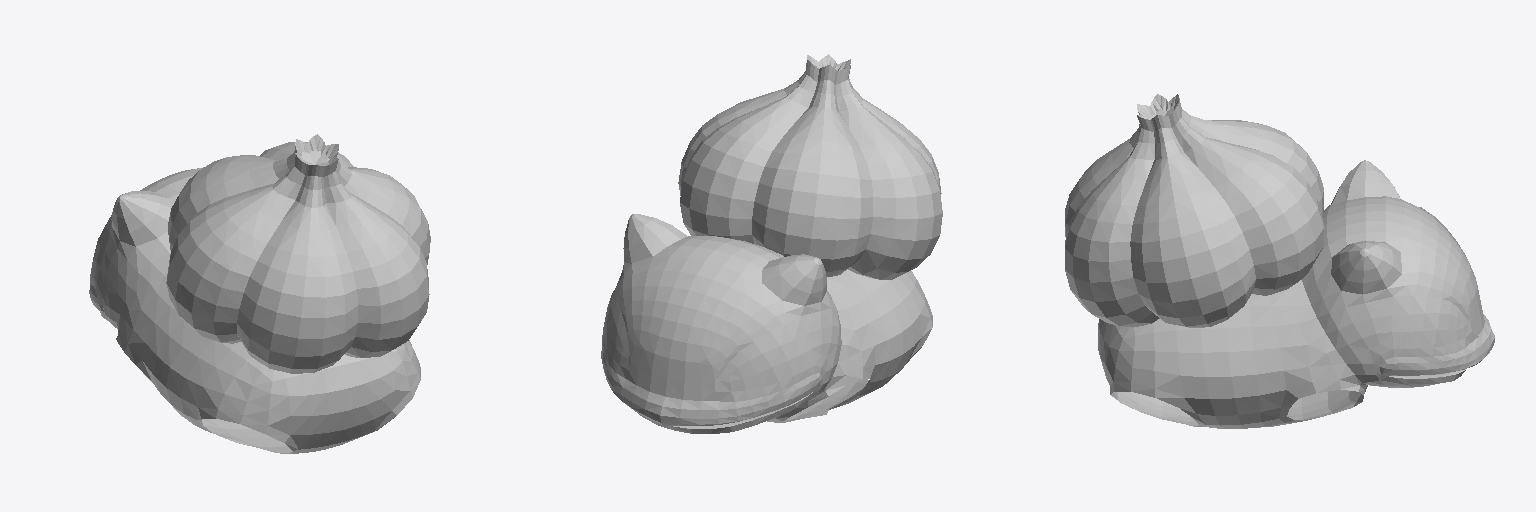
The model's file is Bulbasaur.obj.
3 views of the same model, side by side, from view 1: azimuth 30°, elevation 25°; view 2: azimuth 150°, elevation 25°; view 3: azimuth 270°, elevation 25° (orthographic).
Visible parts, largest first — view 1: bulCuerpo_Material__12, Hips, Head, bulCuerpo_Material__10, LEar, LShoulder, Spine2, Spine1; view 2: bulCuerpo_Material__12, Head, bulCuerpo_Material__13, Hips, LShoulder, bulCuerpo_Material__10, LEar, Spine2, Jaw, Spine1, REar; view 3: bulCuerpo_Material__12, Head, Hips, Spine2, bulCuerpo_Material__13, RShoulder, REar, Spine1, Jaw, LEar.
Boxes of the visible parts, box(x1,y1,x2,y2) form: bulCuerpo_Material__12: box(166, 134, 430, 373); Hips: box(157, 321, 420, 453); Head: box(89, 167, 203, 328); bulCuerpo_Material__10: box(120, 272, 172, 342); LEar: box(112, 191, 159, 232); LShoulder: box(116, 315, 159, 391); Spine2: box(117, 254, 181, 354); Spine1: box(154, 319, 238, 428); bulCuerpo_Material__12: box(678, 54, 942, 279); Head: box(601, 225, 841, 425); bulCuerpo_Material__13: box(602, 271, 805, 401); Hips: box(810, 271, 932, 410); LShoulder: box(777, 339, 889, 422); bulCuerpo_Material__10: box(827, 276, 874, 362); LEar: box(778, 254, 826, 293); Spine2: box(767, 271, 888, 422); Jaw: box(635, 384, 826, 433); Spine1: box(799, 269, 902, 412); REar: box(624, 214, 670, 247); bulCuerpo_Material__12: box(1065, 94, 1323, 327); Head: box(1305, 183, 1494, 382); Hips: box(1098, 306, 1265, 428); Spine2: box(1249, 267, 1367, 426); bulCuerpo_Material__13: box(1405, 207, 1478, 356); RShoulder: box(1257, 364, 1367, 422); REar: box(1339, 240, 1392, 282); Spine1: box(1227, 299, 1261, 427); Jaw: box(1363, 369, 1465, 387); LEar: box(1341, 160, 1391, 185).
Size of the model in its own units: 16.02 by 19.66 by 24.46.